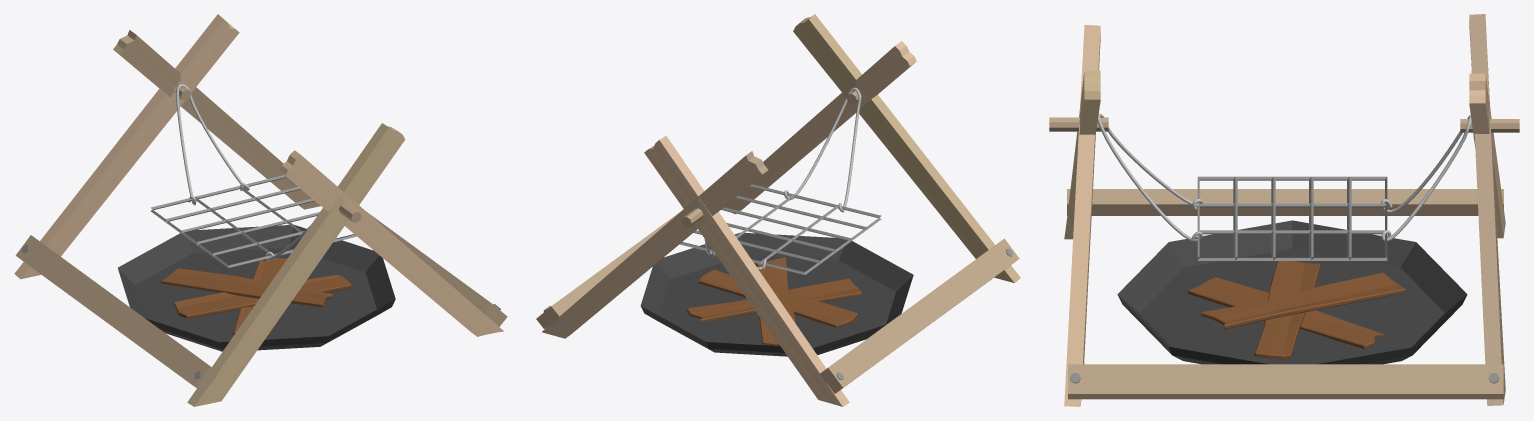
Rendered from grill.fbx.
3 views of the same model, side by side, from view 1: azimuth 30°, elevation 25°; view 2: azimuth 150°, elevation 25°; view 3: azimuth 270°, elevation 25° (orthographic). The views are drawn at different scales.
Visible parts, largest first — view 1: Cylinder, Cube.004, Cube.005, Cube.003, Cube.007, Cube.006, Plane, Cube.002, Cube.001, Cube.008, BézierCurve.001, Cube.027; view 2: Cylinder, Cube.005, Cube.004, Cube.006, Cube.007, Cube.003, Plane, Cube.027, Cube.001, Cube.008, Cube.002, BézierCurve; view 3: Cylinder, Cube.008, Cube.007, Cube.006, Cube.003, Plane, Cube.002, Cube.027, Cube.001, Cube.005, Cube.004, BézierCurve (+3 smaller).
Part boxes in pixels (x1,y1,x2,y2): Cylinder: [118, 225, 395, 351]; Cube.004: [187, 123, 405, 406]; Cube.005: [14, 14, 239, 279]; Cube.003: [279, 150, 503, 336]; Cube.007: [15, 235, 218, 393]; Cube.006: [113, 30, 320, 209]; Plane: [150, 175, 356, 267]; Cube.002: [161, 268, 333, 307]; Cube.001: [173, 274, 351, 318]; Cube.008: [367, 212, 507, 326]; BézierCurve.001: [176, 84, 249, 205]; Cube.027: [233, 258, 287, 337]; Cylinder: [640, 232, 913, 356]; Cube.005: [644, 135, 849, 406]; Cube.004: [793, 14, 1020, 283]; Cube.006: [542, 151, 768, 338]; Cube.007: [820, 238, 1019, 393]; Cube.003: [724, 41, 916, 214]; Plane: [679, 184, 881, 274]; Cube.027: [687, 278, 861, 322]; Cube.001: [699, 269, 857, 327]; Cube.008: [536, 210, 682, 328]; Cube.002: [757, 257, 795, 345]; BézierCurve: [784, 87, 861, 212]; Cylinder: [1117, 220, 1467, 364]; Cube.008: [1068, 364, 1503, 399]; Cube.007: [1067, 189, 1503, 215]; Cube.006: [1469, 14, 1505, 405]; Cube.003: [1064, 25, 1100, 406]; Plane: [1197, 176, 1387, 260]; Cube.002: [1201, 272, 1405, 329]; Cube.027: [1188, 277, 1383, 349]; Cube.001: [1254, 261, 1320, 359]; Cube.005: [1469, 73, 1505, 238]; Cube.004: [1064, 70, 1100, 239]; BézierCurve: [1097, 113, 1202, 242].
Bounding box in the file's own units: 761 × 521 × 811.
